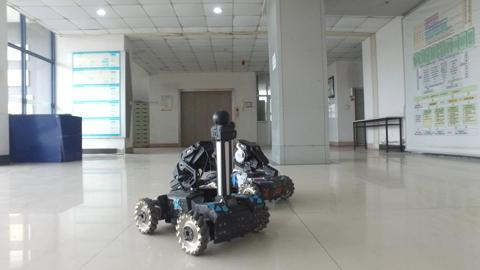chariot: (130, 103, 267, 257), (220, 124, 296, 212)
